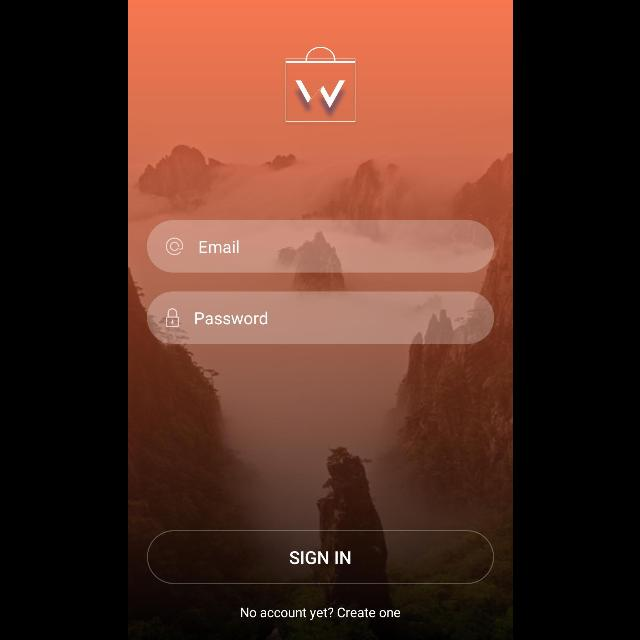backgroundimage: (128, 1, 512, 640)
icon: (166, 308, 178, 328)
image: (285, 46, 355, 122), (165, 238, 183, 256)
input: (146, 221, 494, 273), (146, 292, 494, 344)
text: (240, 608, 400, 620), (194, 312, 266, 324), (198, 240, 238, 253)
textbutton: (146, 530, 494, 584)
